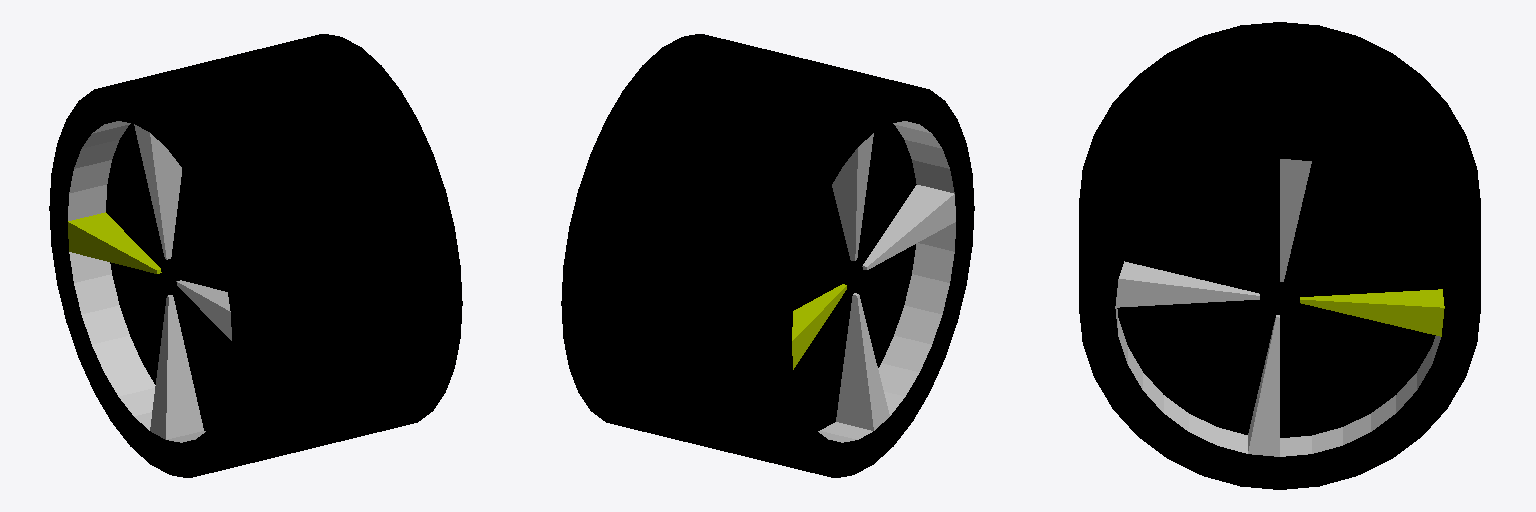
Rendered from Test_Car_Wheel.obj.
3 renders of one model, left to right at view 1: azimuth 30°, elevation 25°; view 2: azimuth 150°, elevation 25°; view 3: azimuth 270°, elevation 25°, orthographic.
Parts seen in each view (by area): view 1: Cylinder; view 2: Cylinder; view 3: Cylinder.
Part boxes in pixels (x1,y1,x2,y2): Cylinder: (49,34,462,477); Cylinder: (561,34,974,477); Cylinder: (1079,22,1480,489).
Bounding box in the file's own units: 1.22 × 2 × 2.